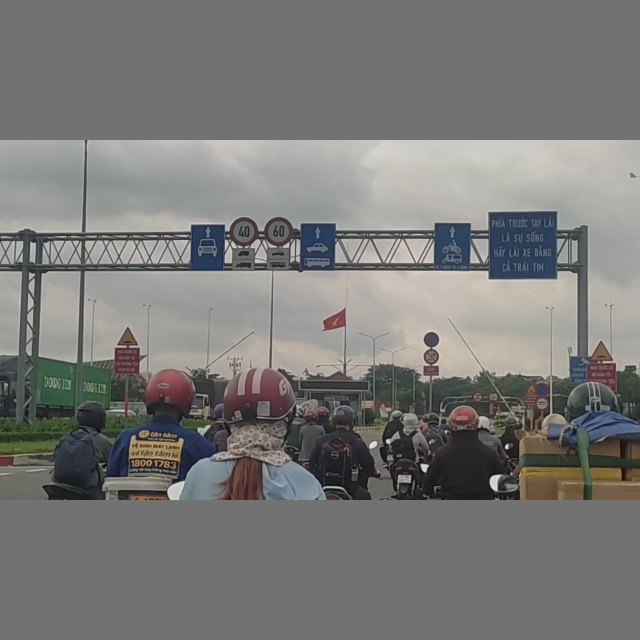Camera: (569, 355, 589, 383)
P.107: (488, 391, 499, 402), (473, 391, 483, 401)
P.111: (424, 349, 439, 364)
P.127*40: (229, 217, 259, 247)
P.127*60: (265, 217, 293, 246)
P.129: (536, 397, 549, 411)
P.130: (424, 332, 439, 347)
P.131a: (535, 383, 549, 397)
W.221b: (591, 341, 615, 361), (117, 327, 138, 345), (527, 384, 536, 393)
